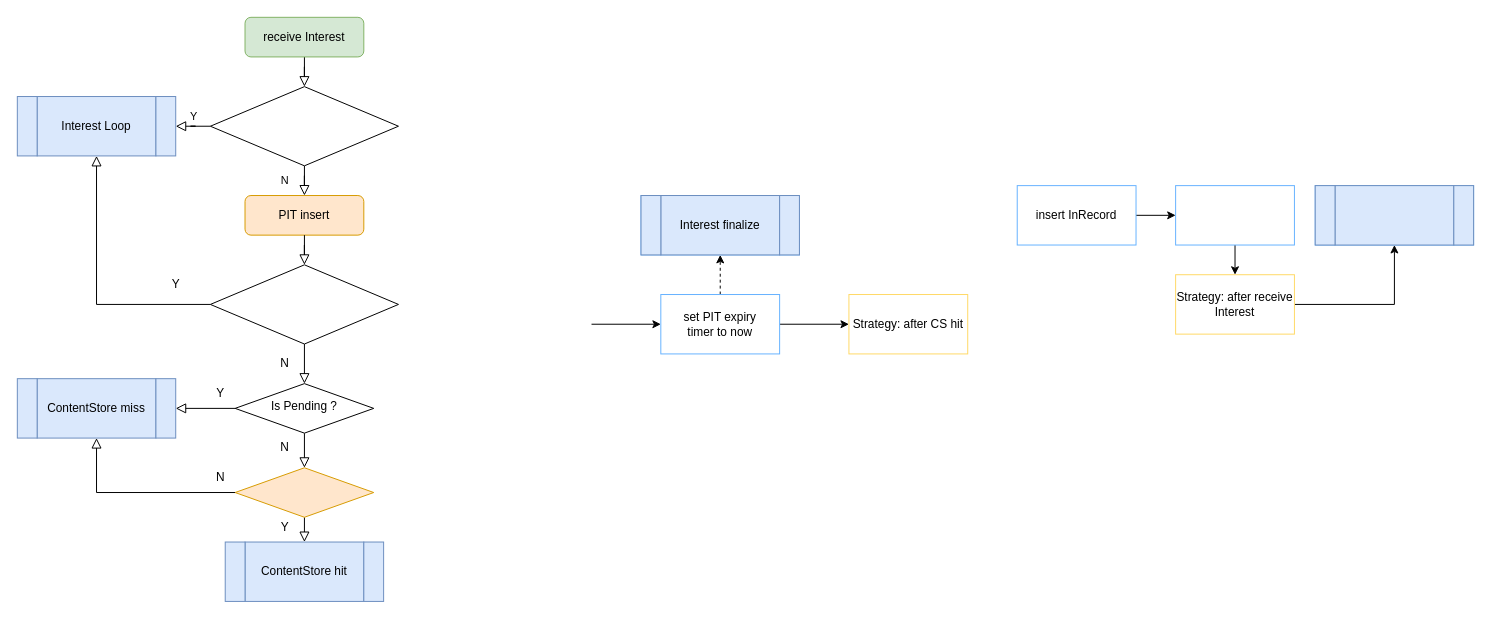
The diagram is 1491 pixels wide and 619 high, and some of its shapes have lost their labels. Each missing label, with the centre of its shape:
"CS Lookup" goes at pixel 304 492.
"detect duplicate Nonce in PIT entry" goes at pixel 303 304.
"minus ttl and check if ttl < 0" goes at pixel 303 126.
"Outgoing Interest" goes at pixel 1394 215.
"set PIT expiry timer to the time that the last PIT in-record expires" goes at pixel 1234 215.
